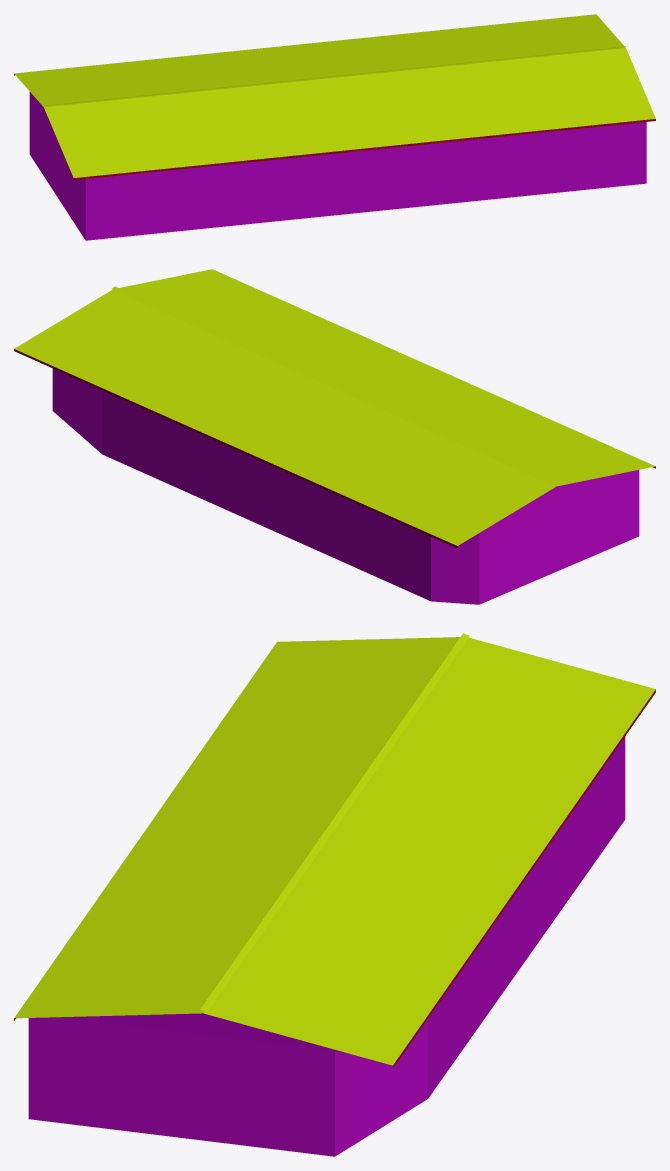
File: bgj_384.glb
3 views of the same model, one above another, from view 1: azimuth 30°, elevation 25°; view 2: azimuth 150°, elevation 25°; view 3: azimuth 270°, elevation 25° (orthographic). The views are drawn at different scales.
Parts seen in each view (by area): view 1: bgj_384; view 2: bgj_384; view 3: bgj_384.
Boxes of the visible parts, left/top/right/bottom form: bgj_384: left=14, top=14, right=655, bottom=240; bgj_384: left=14, top=269, right=655, bottom=604; bgj_384: left=14, top=633, right=655, bottom=1156.
Size of the model in its own units: 33.81 by 5.06 by 21.65.
